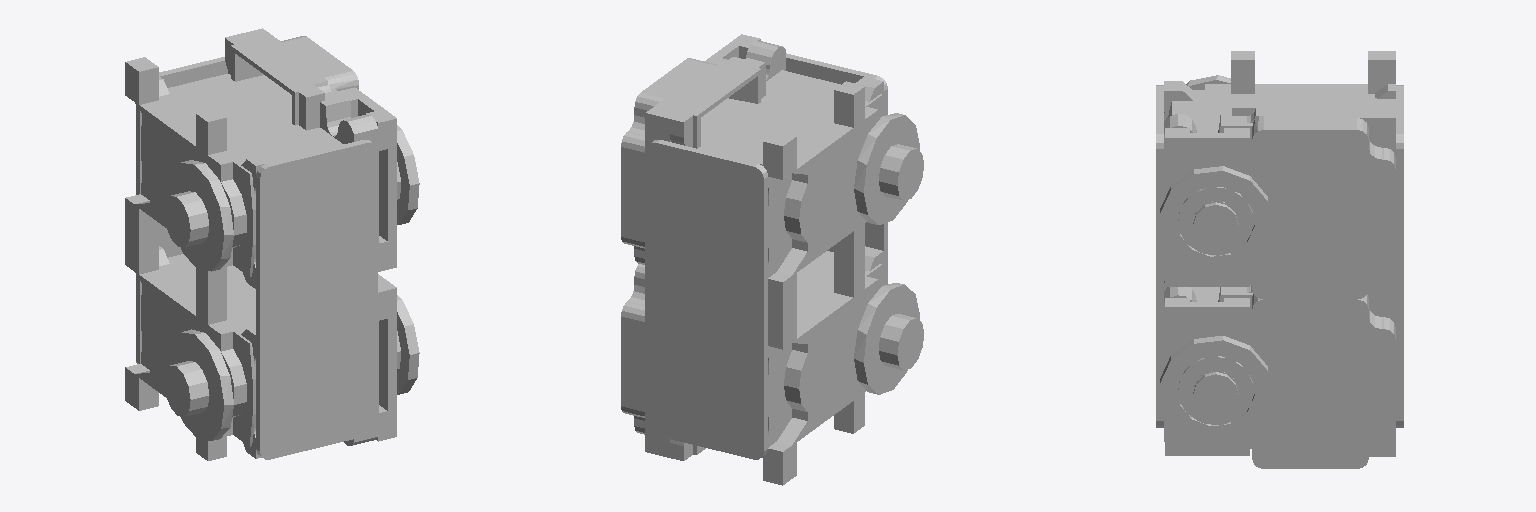
File: Knee_1__1_mesh.obj
The picture shows the model from 3 angles: view 1: azimuth 30°, elevation 25°; view 2: azimuth 150°, elevation 25°; view 3: azimuth 270°, elevation 25°; orthographic projection.
Parts seen in each view (by area): view 1: Body21, Body2, Body17, Body1, Body10, Body6, Body12, Body22, Body5, Body8, Body16; view 2: Body22, Body2, Body17, Body1, Body10, Body5, Body13, Body21, Body6; view 3: Body5, Body13, Body2, Body6, Body12, Body8, Body16, Body22, Body21, Body9, Body14, Body17.
Part boxes in pixels (left/top/right/bottom): Body21: left=256, top=140, right=377, bottom=459; Body2: left=125, top=30, right=373, bottom=291; Body17: left=125, top=232, right=373, bottom=460; Body1: left=164, top=160, right=233, bottom=271; Body10: left=164, top=329, right=233, bottom=440; Body6: left=339, top=87, right=396, bottom=271; Body12: left=376, top=274, right=396, bottom=441; Body22: left=136, top=57, right=227, bottom=363; Body5: left=258, top=28, right=378, bottom=266; Body8: left=397, top=125, right=419, bottom=224; Body16: left=397, top=295, right=419, bottom=394; Body22: left=646, top=140, right=767, bottom=459; Body2: left=650, top=42, right=884, bottom=315; Body17: left=650, top=246, right=884, bottom=485; Body1: left=854, top=113, right=923, bottom=224; Body10: left=854, top=283, right=923, bottom=394; Body5: left=621, top=40, right=762, bottom=282; Body13: left=621, top=264, right=649, bottom=452; Body21: left=786, top=53, right=887, bottom=284; Body6: left=704, top=34, right=760, bottom=64; Body5: left=1164, top=116, right=1395, bottom=299; Body13: left=1164, top=288, right=1395, bottom=468; Body2: left=1164, top=51, right=1395, bottom=132; Body6: left=1165, top=128, right=1249, bottom=286; Body12: left=1165, top=298, right=1249, bottom=455; Body8: left=1160, top=166, right=1271, bottom=272; Body16: left=1160, top=336, right=1271, bottom=441; Body22: left=1396, top=85, right=1403, bottom=427; Body21: left=1156, top=85, right=1163, bottom=427; Body9: left=1178, top=187, right=1253, bottom=255; Body14: left=1178, top=356, right=1253, bottom=424; Body17: left=1164, top=272, right=1252, bottom=301.
Size of the model in its own units: 0.0451 by 0.066 by 0.0438.